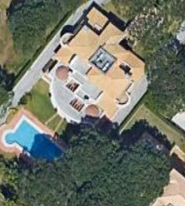pool: (7, 122, 56, 163)
